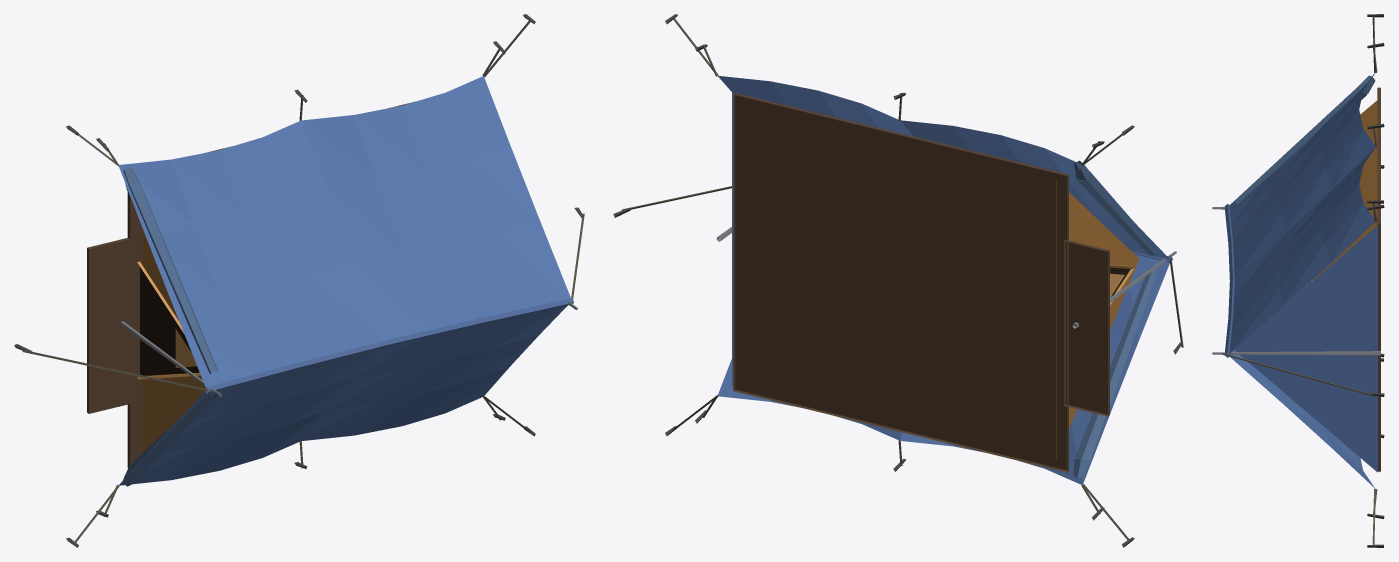
Rendered from blue-56.obj.
3 views of the same model, side by side, from view 1: azimuth 30°, elevation 25°; view 2: azimuth 150°, elevation 25°; view 3: azimuth 270°, elevation 25° (orthographic). The views are drawn at different scales.
Bounding box in the file's own units: 3.58 × 2.52 × 1.13.
Materials: 1 (1 with a texture image).
